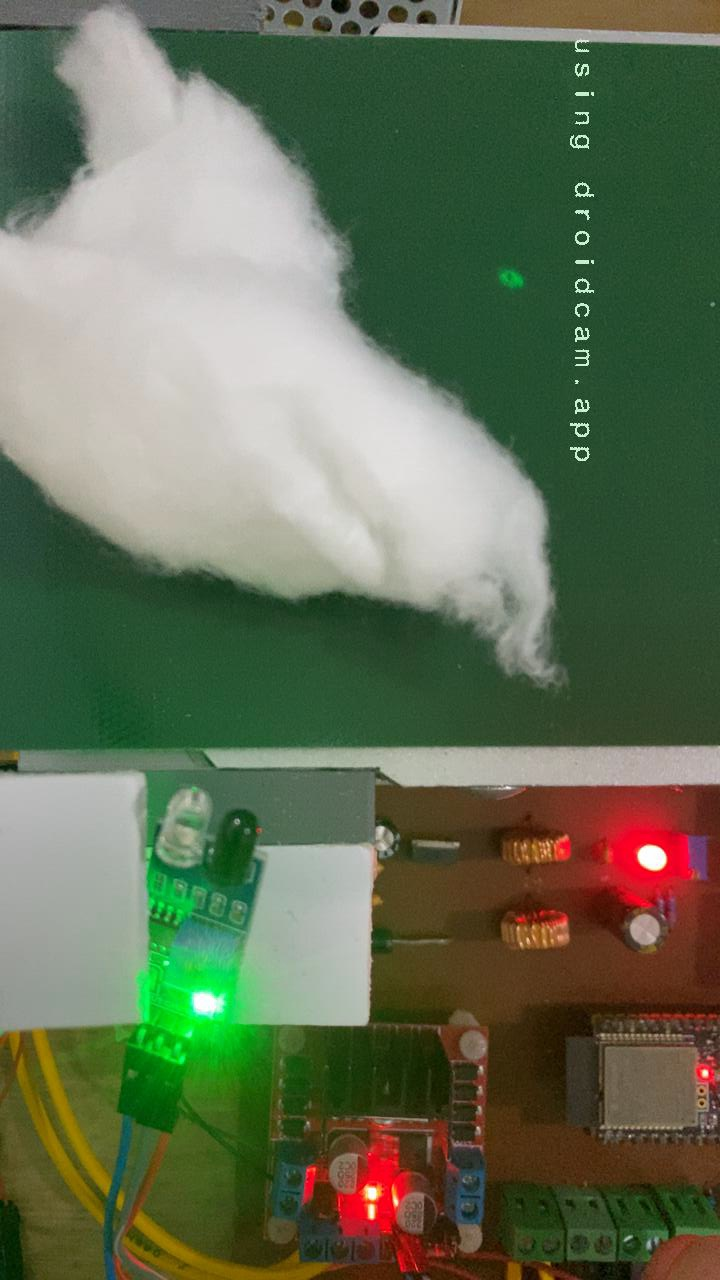cotton: (0, 36, 564, 689)
